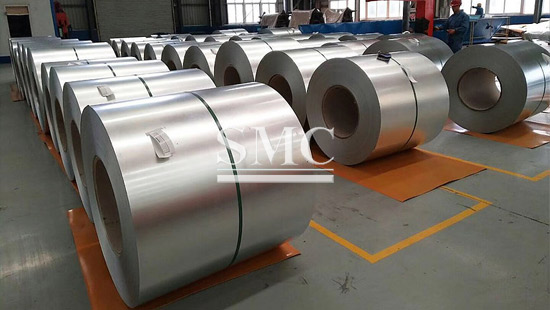steel-coil: (6, 20, 533, 281), (80, 100, 337, 297), (310, 58, 461, 161), (439, 33, 547, 138)
